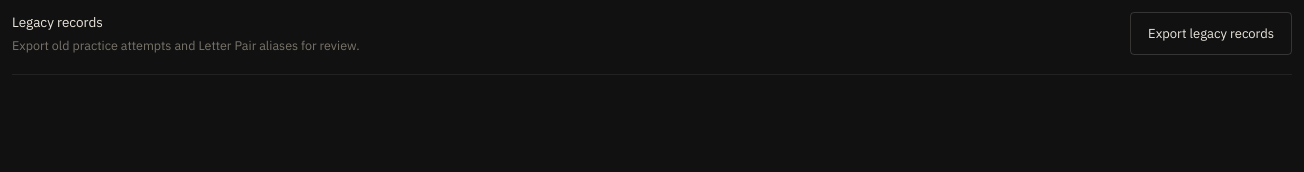
Test: exports review data separately and reports denied coverage
The image size is (1304, 172).
Click the button "Export legacy records" at [1211, 34], box top-left (1130, 12), bottom-right (1292, 55)
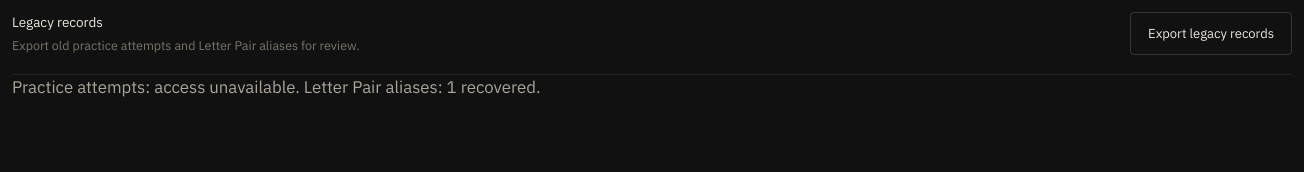
Result: the text "Practice attempts: access unavailable. Letter Pair aliases: 1 recovered." is shown at top-left (12, 76), bottom-right (540, 98)
